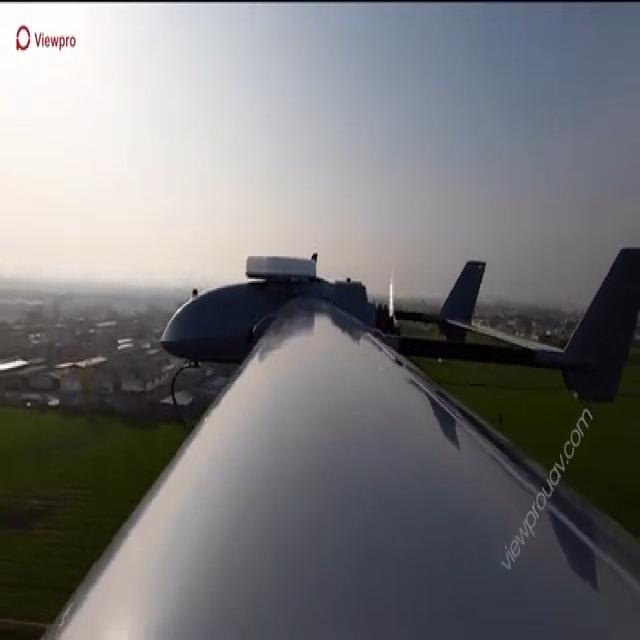drones: (147, 234, 640, 472)
